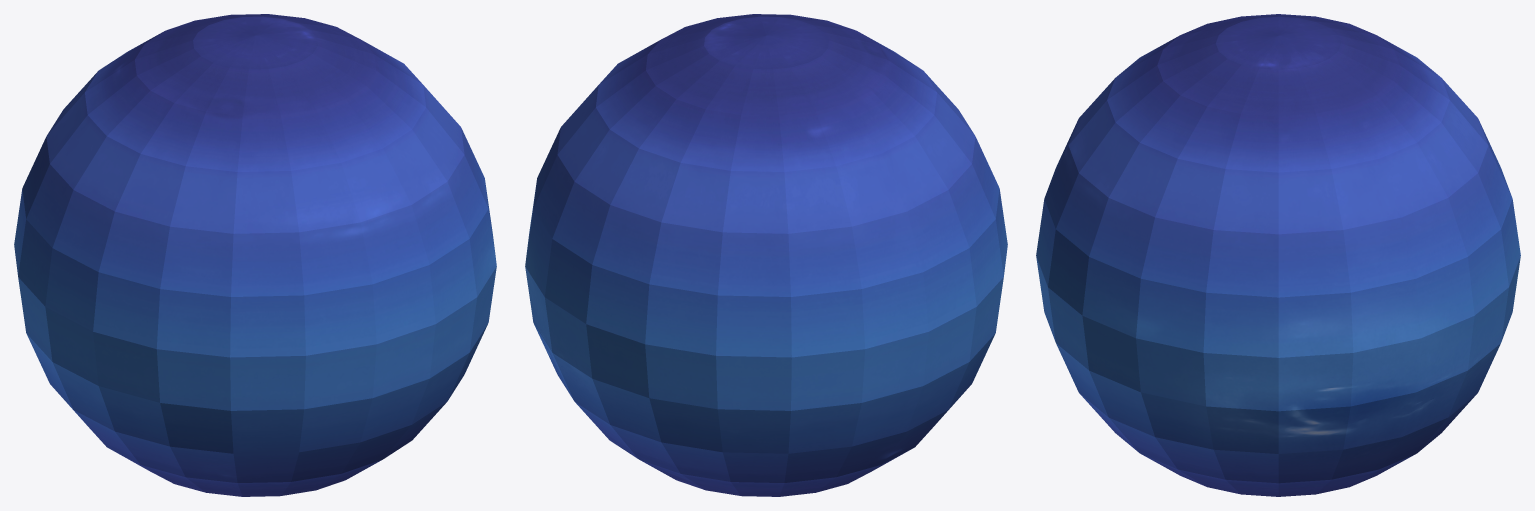
File: Neptuno.glb
The picture shows the model from 3 angles, left to right: view 1: azimuth 30°, elevation 25°; view 2: azimuth 150°, elevation 25°; view 3: azimuth 270°, elevation 25°; orthographic projection.
Visible parts, largest first — view 1: Neptuno; view 2: Neptuno; view 3: Neptuno.
Part boxes in pixels (x1=…): Neptuno: x1=14, y1=14, x2=496, y2=496; Neptuno: x1=525, y1=14, x2=1007, y2=496; Neptuno: x1=1036, y1=14, x2=1520, y2=496.
Size of the model in its own units: 3.19 by 3.19 by 3.19.
1 material, 1 textured.
